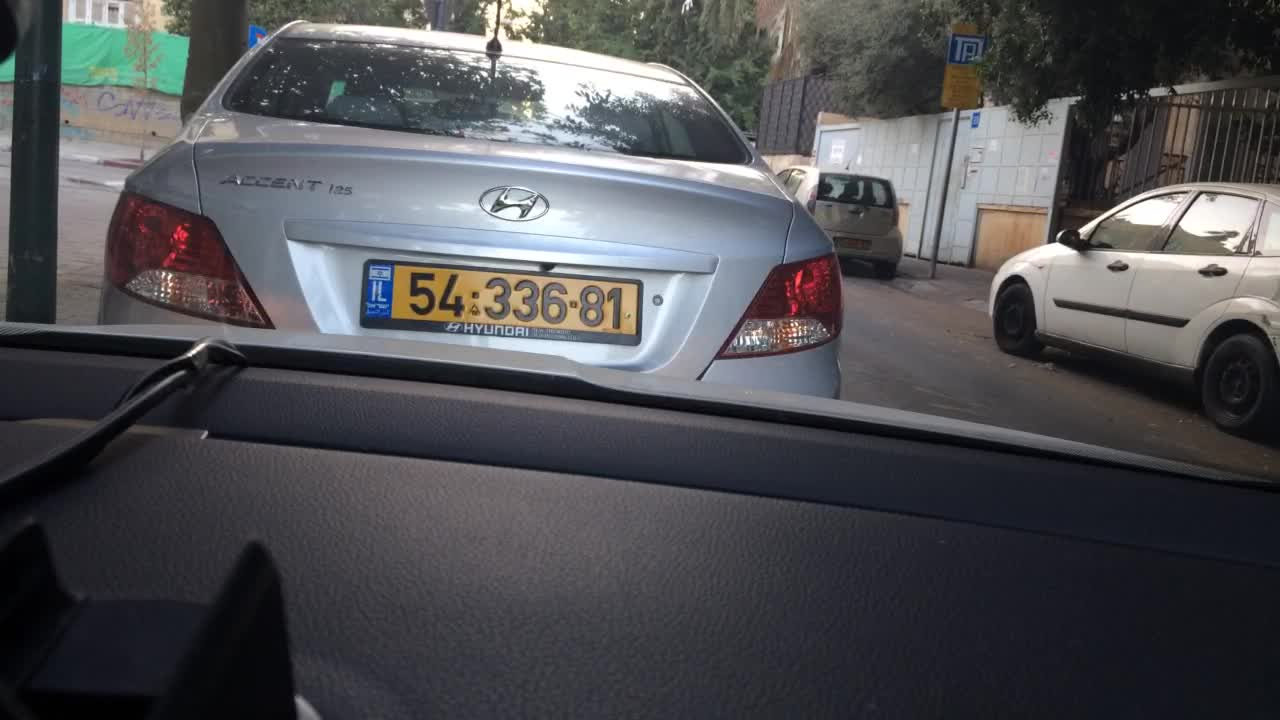car: (90, 0, 851, 404), (979, 178, 1278, 442), (772, 162, 905, 281)
traffic sign: (939, 18, 987, 113)
